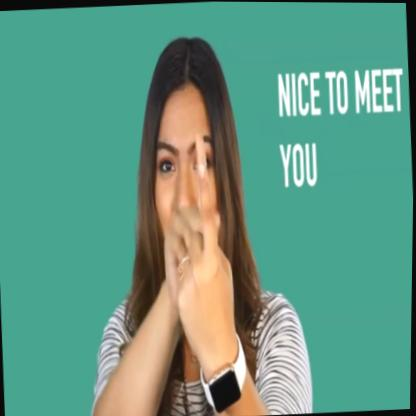NiceToMeetYou: (126, 129, 243, 362)
